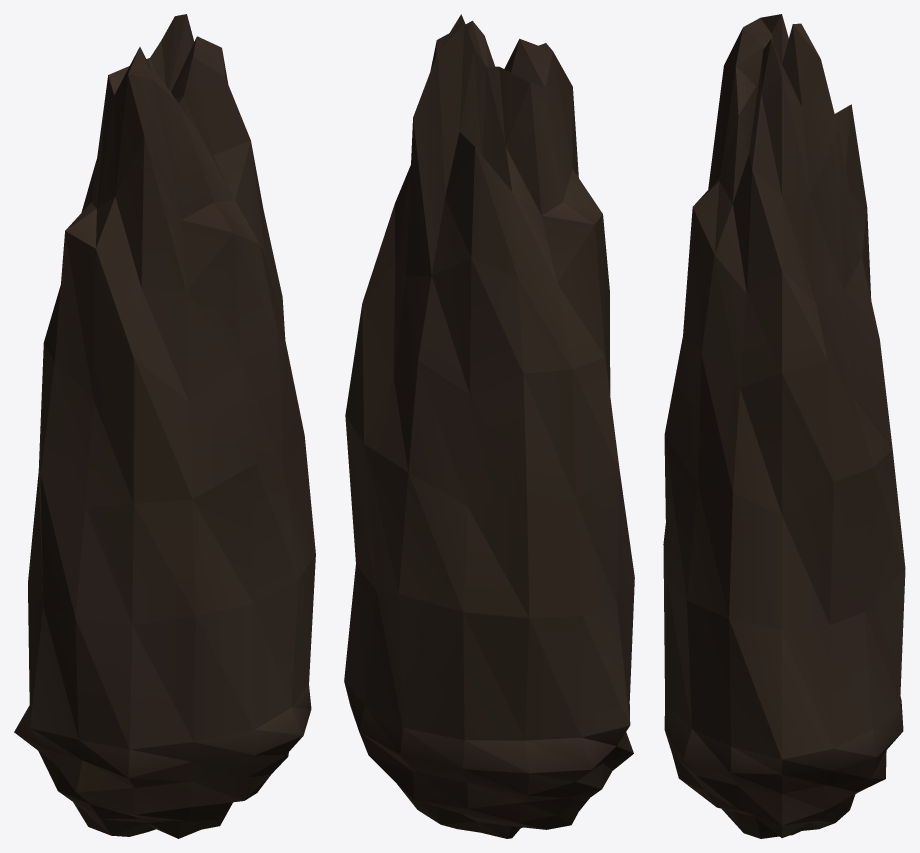
File: mega_column_v1.glb
3 renders of one model, left to right at view 1: azimuth 30°, elevation 25°; view 2: azimuth 150°, elevation 25°; view 3: azimuth 270°, elevation 25°, orthographic.
Visible parts, largest first — view 1: mega_column_v1.glb; view 2: mega_column_v1.glb; view 3: mega_column_v1.glb.
Boxes of the visible parts, box(x1,y1,x2,y2) form: mega_column_v1.glb: box(14, 14, 315, 838); mega_column_v1.glb: box(344, 14, 634, 838); mega_column_v1.glb: box(663, 14, 905, 838).
Size of the model in its own units: 0.3631 by 1 by 0.2694.
